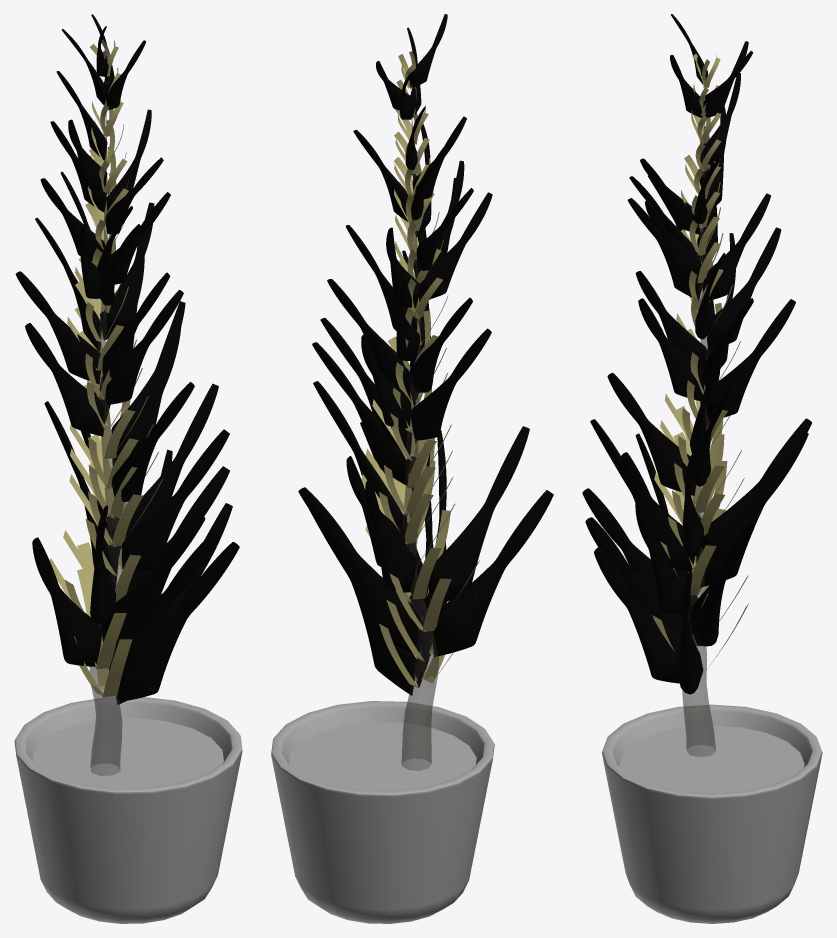
Rendered from Plant.fbx.
The picture shows the model from 3 angles, left to right: view 1: azimuth 30°, elevation 25°; view 2: azimuth 150°, elevation 25°; view 3: azimuth 270°, elevation 25°; orthographic projection. The views are drawn at different scales.
Visible parts, largest first — view 1: nurbsToPoly132, pCylinder1; view 2: nurbsToPoly132, pCylinder1; view 3: nurbsToPoly132, pCylinder1.
Part boxes in pixels (x1,y1,x2,y2): nurbsToPoly132: (15, 14, 239, 775); pCylinder1: (14, 697, 242, 923); nurbsToPoly132: (298, 14, 553, 770); pCylinder1: (271, 701, 494, 923); nurbsToPoly132: (582, 14, 812, 756); pCylinder1: (602, 704, 822, 923).
Bounding box in the file's own units: 0.9888 × 3.62 × 0.9114.
